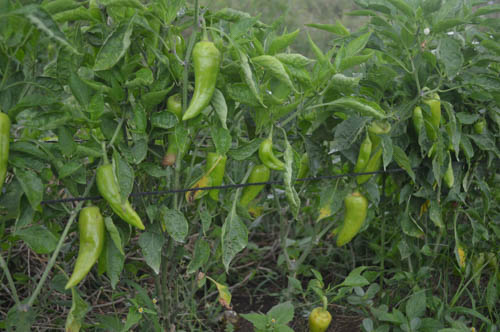ChiliPepper: (178, 42, 219, 125), (66, 207, 100, 292), (99, 167, 144, 230), (419, 112, 454, 188), (360, 124, 389, 190), (337, 195, 366, 249), (237, 167, 267, 209), (252, 139, 288, 169), (202, 154, 224, 201), (417, 101, 441, 140), (352, 141, 368, 174), (305, 310, 332, 328)
